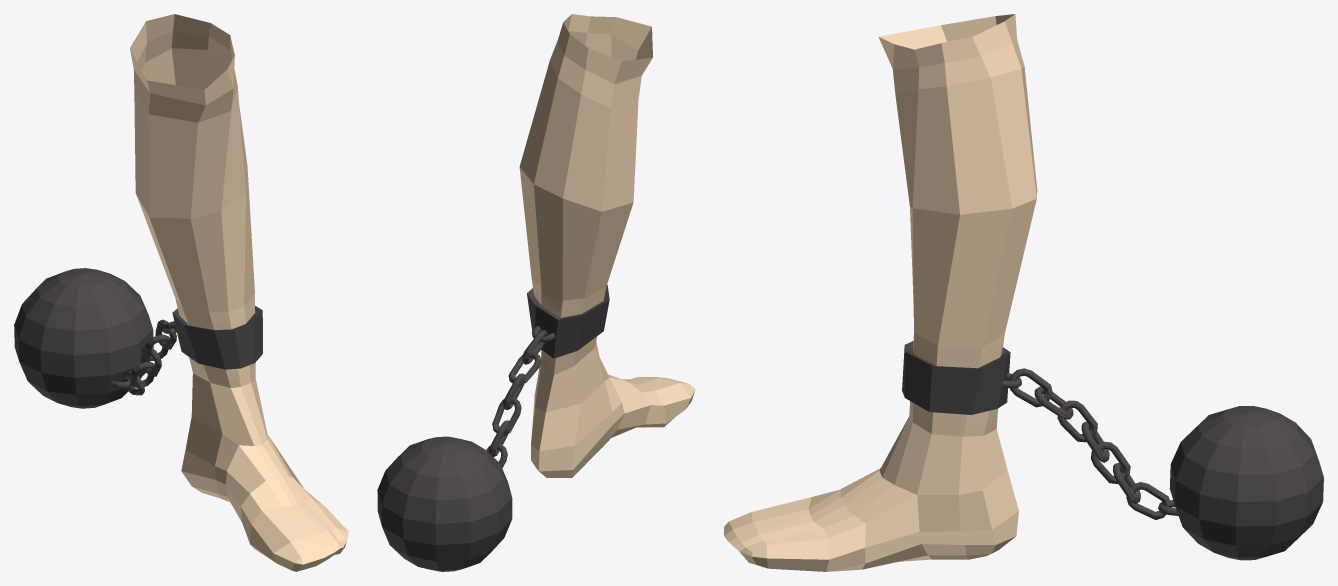
Rendered from chain ball.fbx.
3 renders of one model, left to right at view 1: azimuth 30°, elevation 25°; view 2: azimuth 150°, elevation 25°; view 3: azimuth 270°, elevation 25°, orthographic. The views are drawn at different scales.
Visible parts, largest first — view 1: Mesh15; view 2: Mesh15; view 3: Mesh15.
Part boxes in pixels (x1=…): Mesh15: x1=14, y1=14, x2=348, y2=571; Mesh15: x1=377, y1=14, x2=695, y2=571; Mesh15: x1=724, y1=14, x2=1323, y2=571.
Bounding box in the file's own units: 0.9507 × 3.15 × 3.28.
2 materials, 1 textured.
